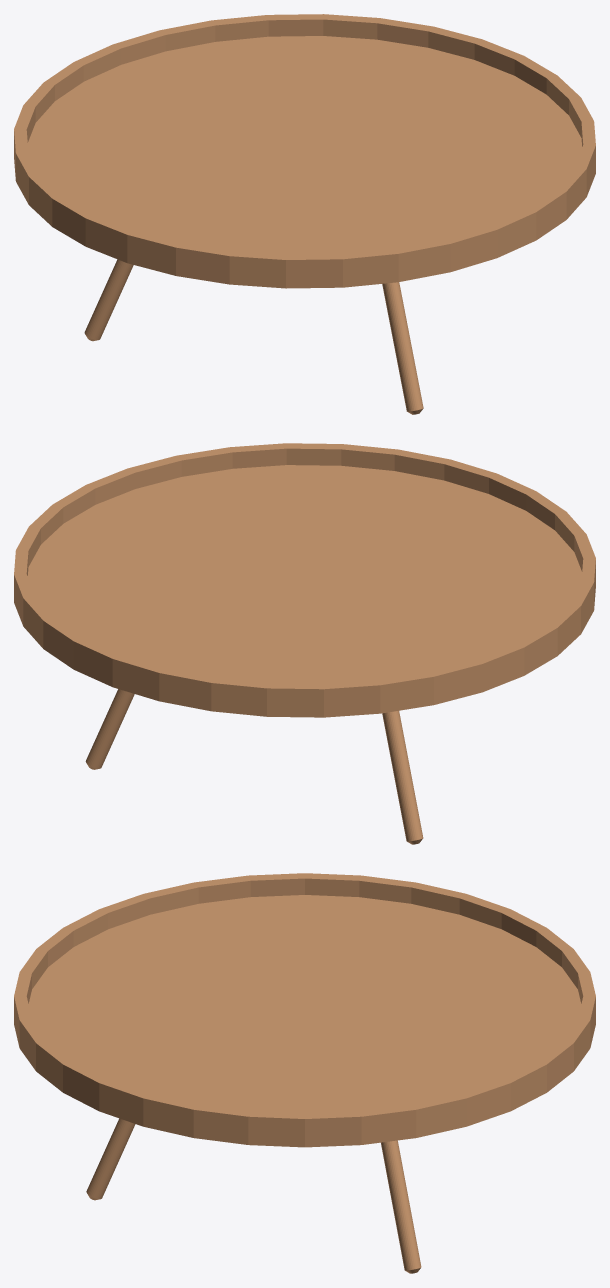
File: TableBasseRonde.fbx
3 views of the same model, one above another, from view 1: azimuth 30°, elevation 25°; view 2: azimuth 150°, elevation 25°; view 3: azimuth 270°, elevation 25° (orthographic).
Visible parts, largest first — view 1: tablebasse; view 2: tablebasse; view 3: tablebasse.
Boxes of the visible parts, x1,y1,x2,y2 form: tablebasse: (14,14,595,414); tablebasse: (14,443,595,844); tablebasse: (14,873,595,1273).
Size of the model in its own units: 53.69 by 20.47 by 53.69.
